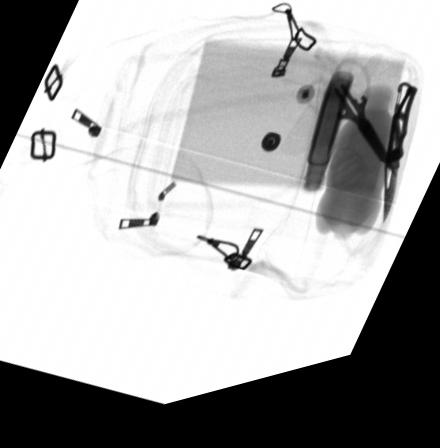Knife: (382, 105, 418, 248)
Scissors: (305, 71, 398, 197)
